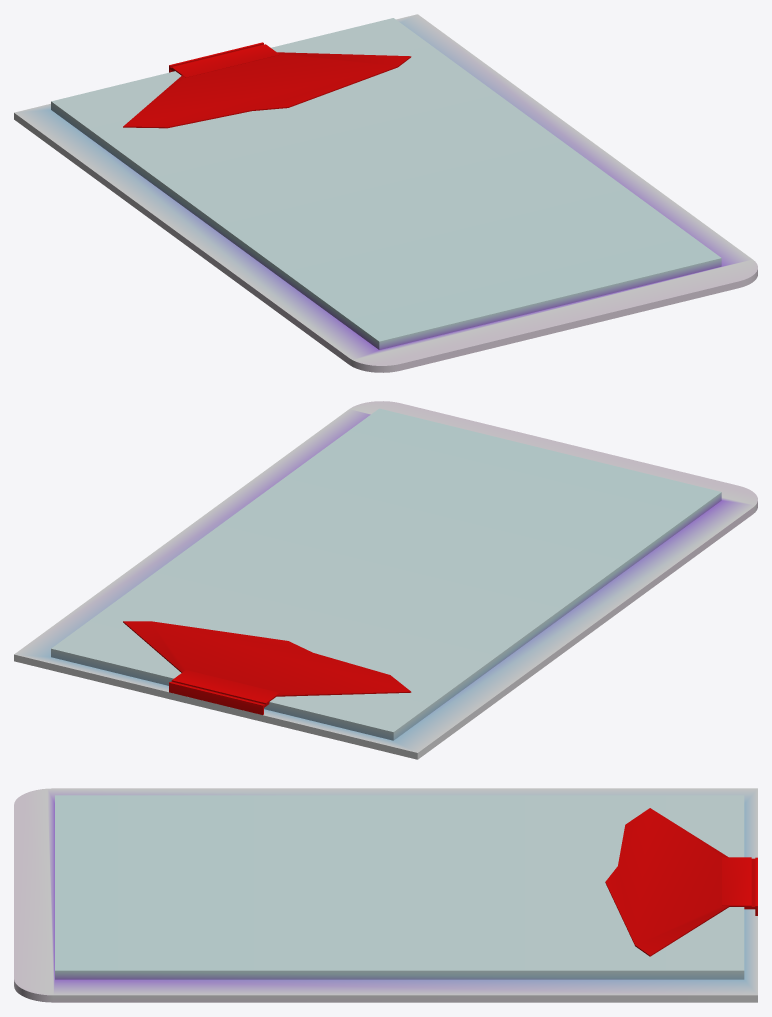
3 views of the same model, one above another, from view 1: azimuth 30°, elevation 25°; view 2: azimuth 150°, elevation 25°; view 3: azimuth 270°, elevation 25° (orthographic). The views are drawn at different scales.
Parts seen in each view (by area): view 1: base, angular_flap; view 2: base, angular_flap; view 3: base, angular_flap.
Part boxes in pixels (x1=…): base: x1=14, y1=14, x2=757, y2=372; angular_flap: x1=123, y1=42, x2=411, y2=128; base: x1=14, y1=401, x2=757, y2=759; angular_flap: x1=123, y1=621, x2=411, y2=714; base: x1=14, y1=788, x2=757, y2=1002; angular_flap: x1=605, y1=808, x2=757, y2=956.
Size of the model in its own units: 0.1975 by 0.00778 by 0.3.
